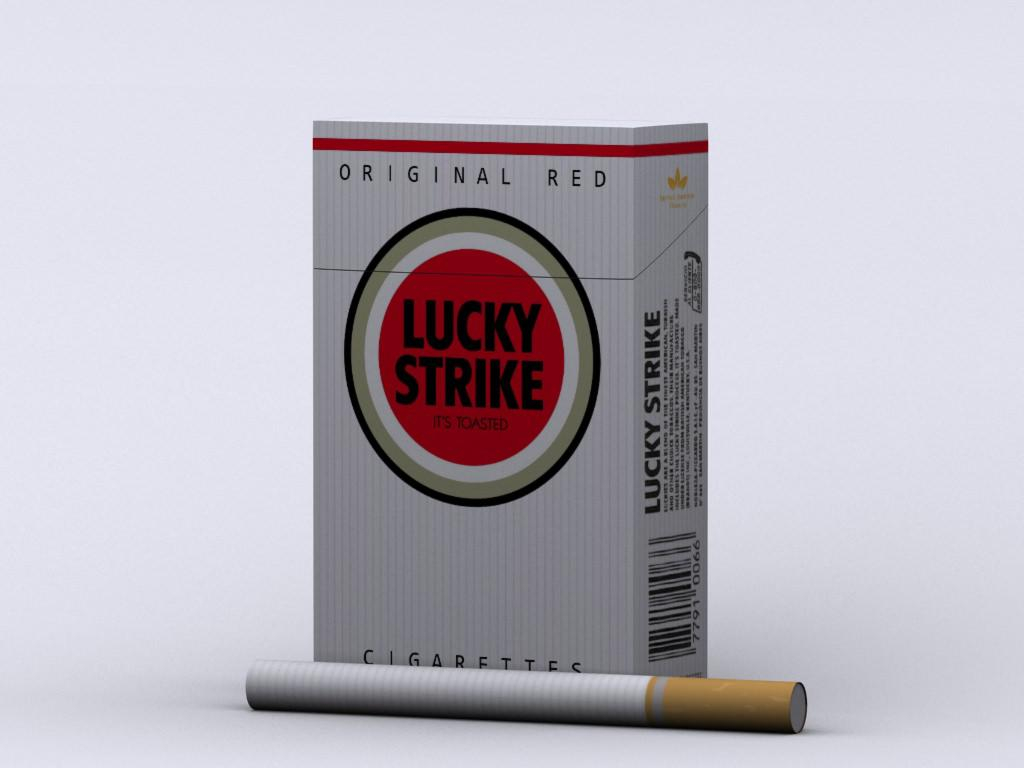lucky_strike_red: (319, 125, 641, 680)
